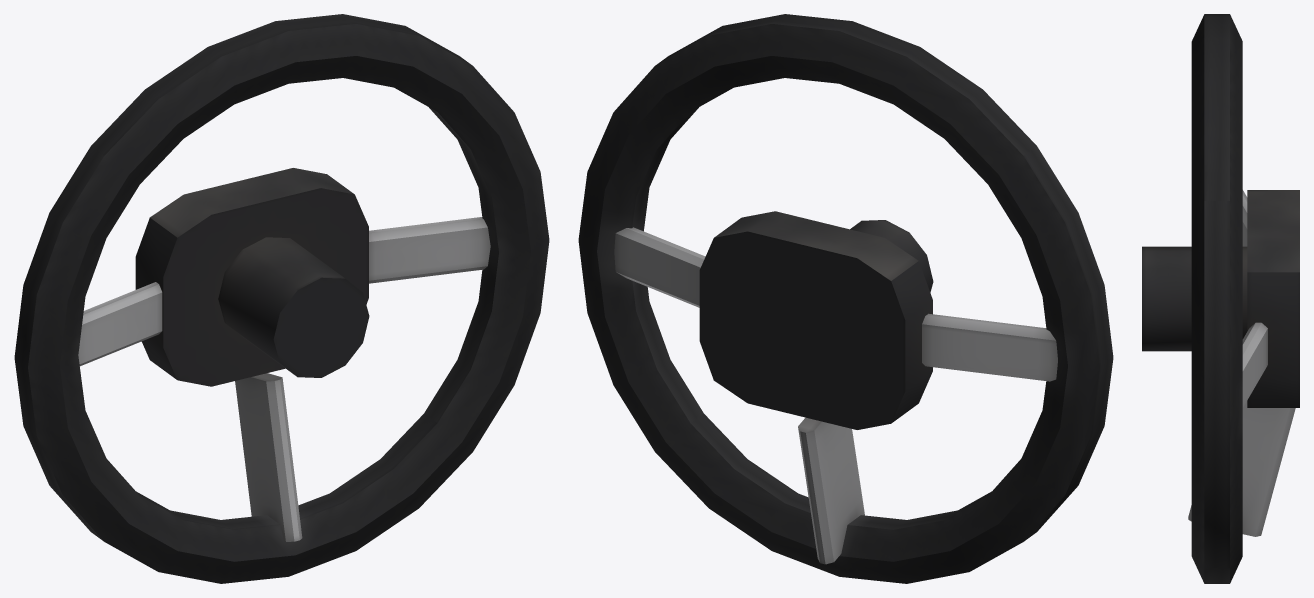
The model's file is SteeringWheel.fbx.
The picture shows the model from 3 angles, left to right: view 1: azimuth 30°, elevation 25°; view 2: azimuth 150°, elevation 25°; view 3: azimuth 270°, elevation 25°; orthographic projection. The views are drawn at different scales.
Visible parts, largest first — view 1: SteeringWheel_LOD0; view 2: SteeringWheel_LOD0; view 3: SteeringWheel_LOD0.
Boxes of the visible parts, bbox=[...] form: SteeringWheel_LOD0: bbox=[14, 14, 549, 583]; SteeringWheel_LOD0: bbox=[578, 14, 1113, 583]; SteeringWheel_LOD0: bbox=[1142, 14, 1299, 583].
Size of what is drawn, in the model's own units: 0.3808 by 0.3808 by 0.105.
1 material, 1 textured.
